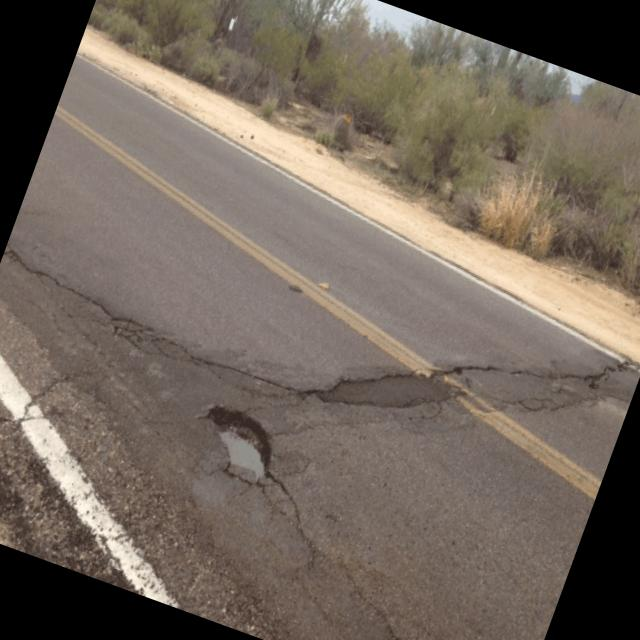Potholes: (178, 381, 288, 515)
